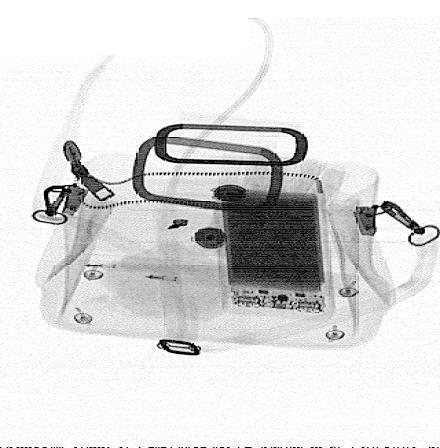Powerbank: (214, 184, 336, 322)
